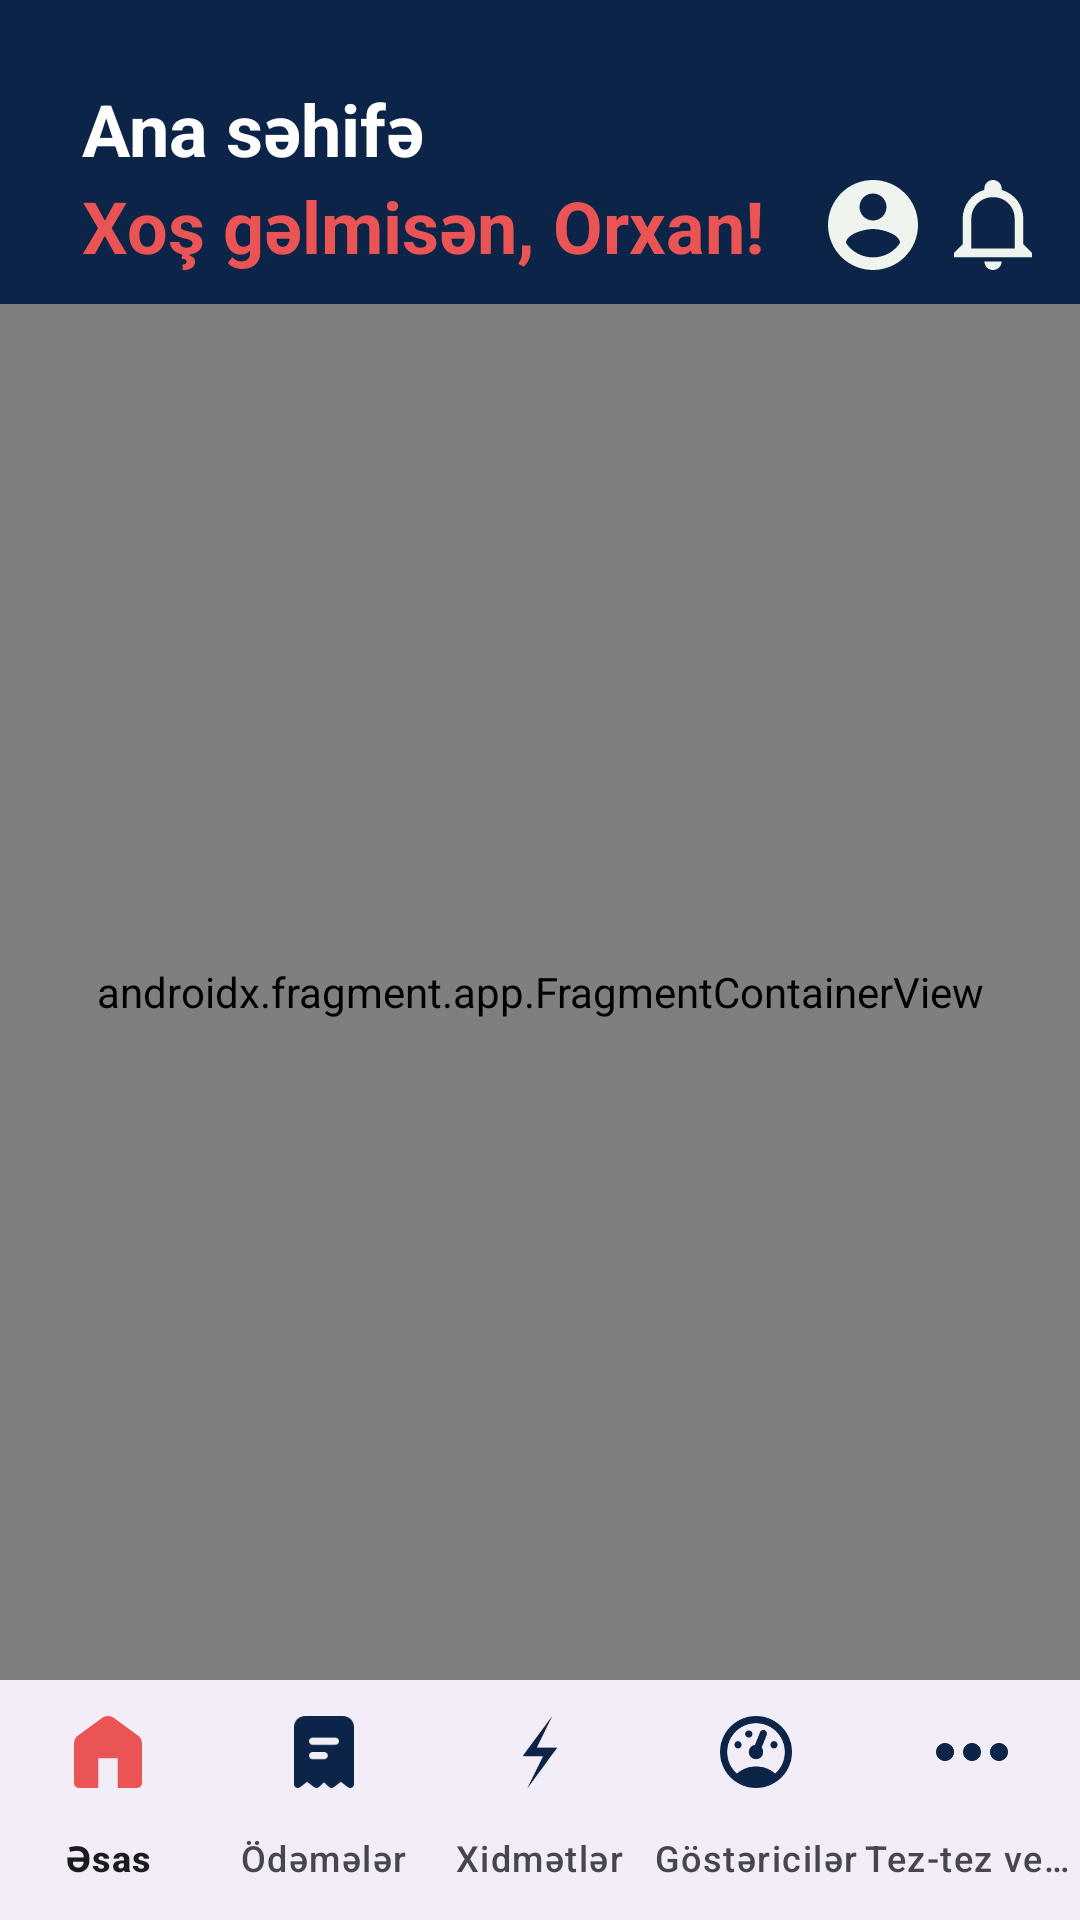

Screen size 1080 x 1920. Icon name, then its center in pixels as point (x, y):
notification: point (993, 225)
person: point (873, 225)
